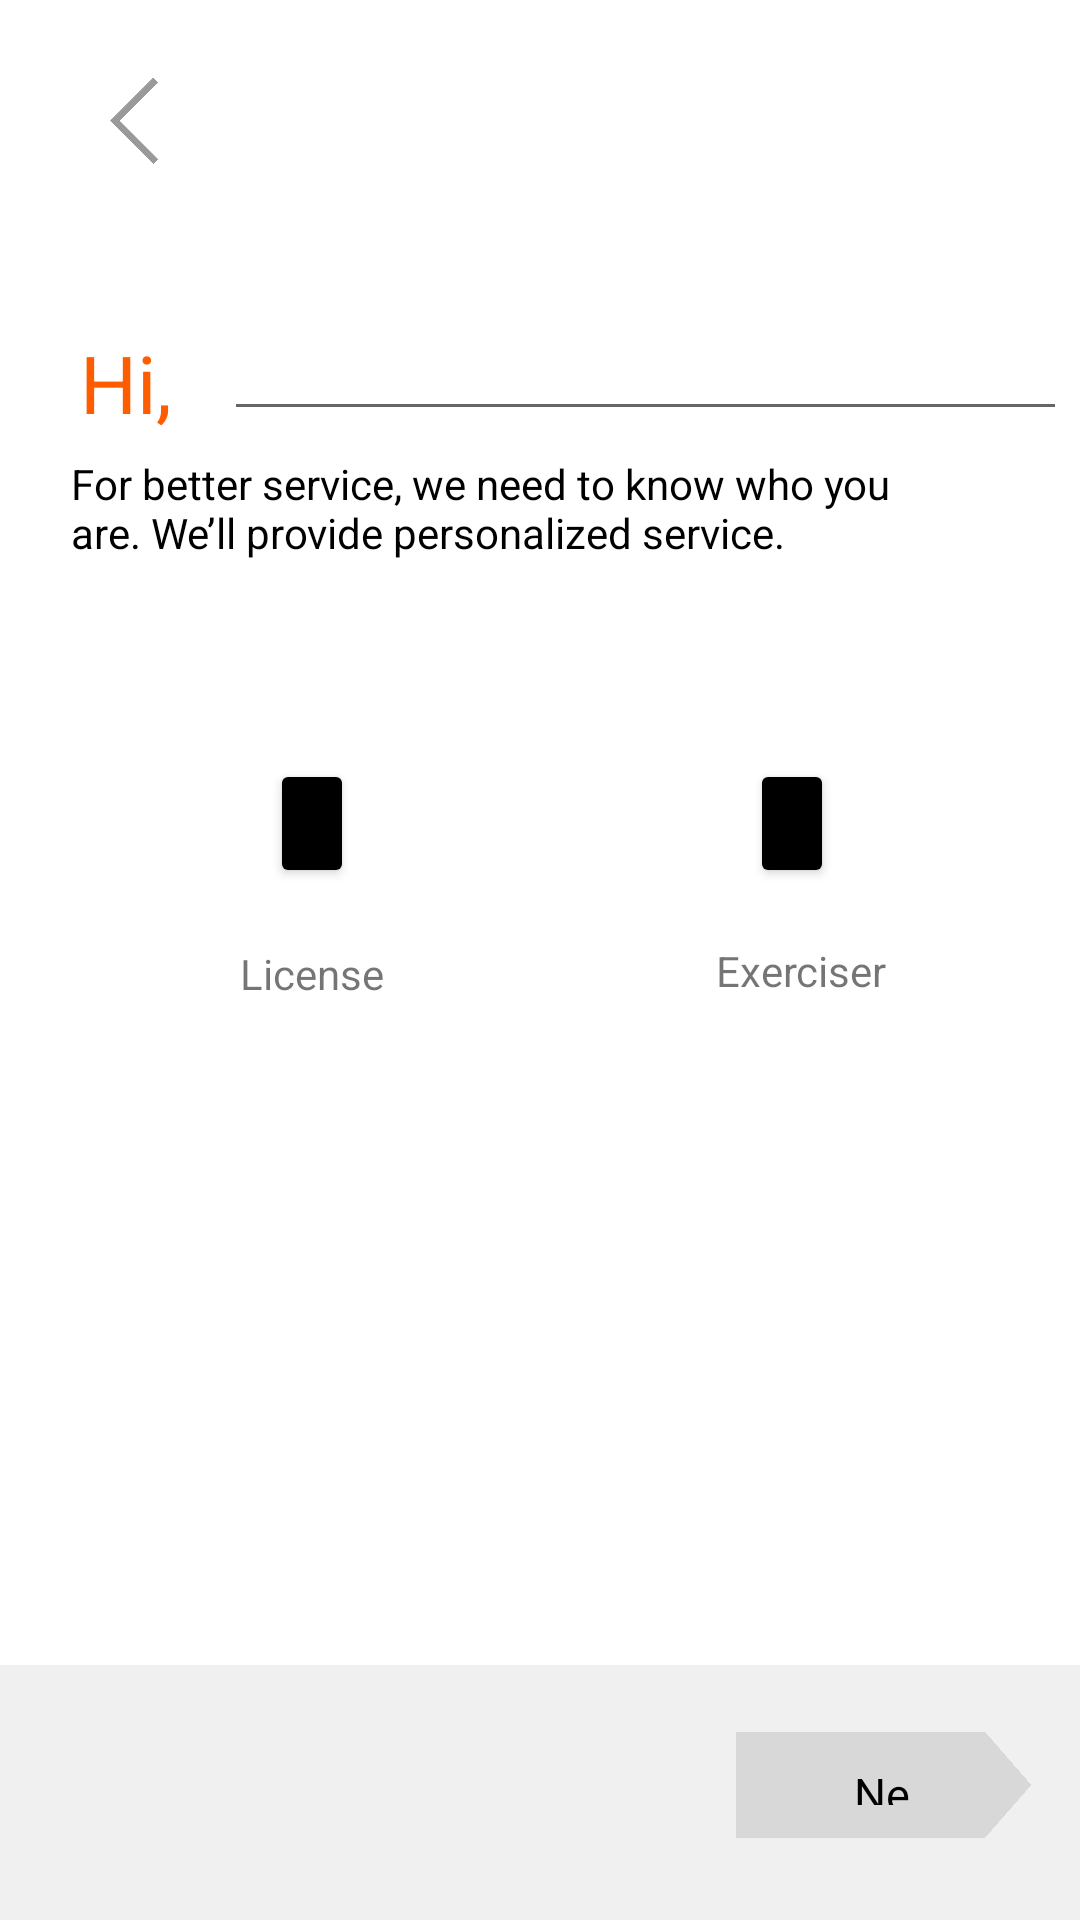

Named icons in this screenshot (1080px×1920px) and their centers, (x,y):
prebutton: (134,121)
